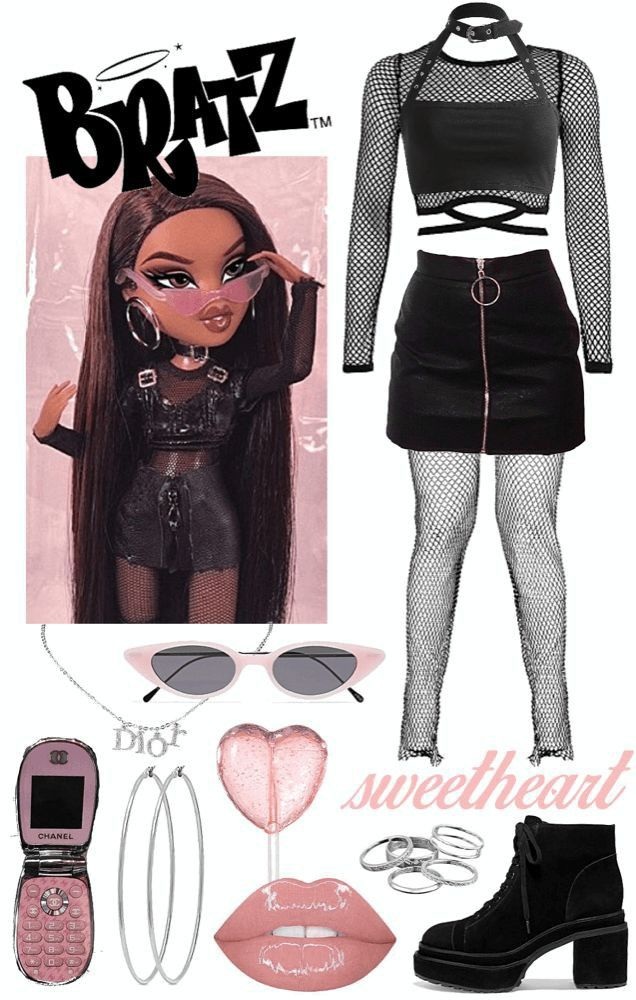Imprimante: (122, 188, 212, 550)
